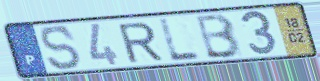3: (239, 8, 280, 59)
4: (87, 21, 120, 68)
B: (195, 12, 244, 60)
L: (158, 17, 204, 64)
R: (115, 20, 166, 65)
S: (39, 24, 84, 72)
